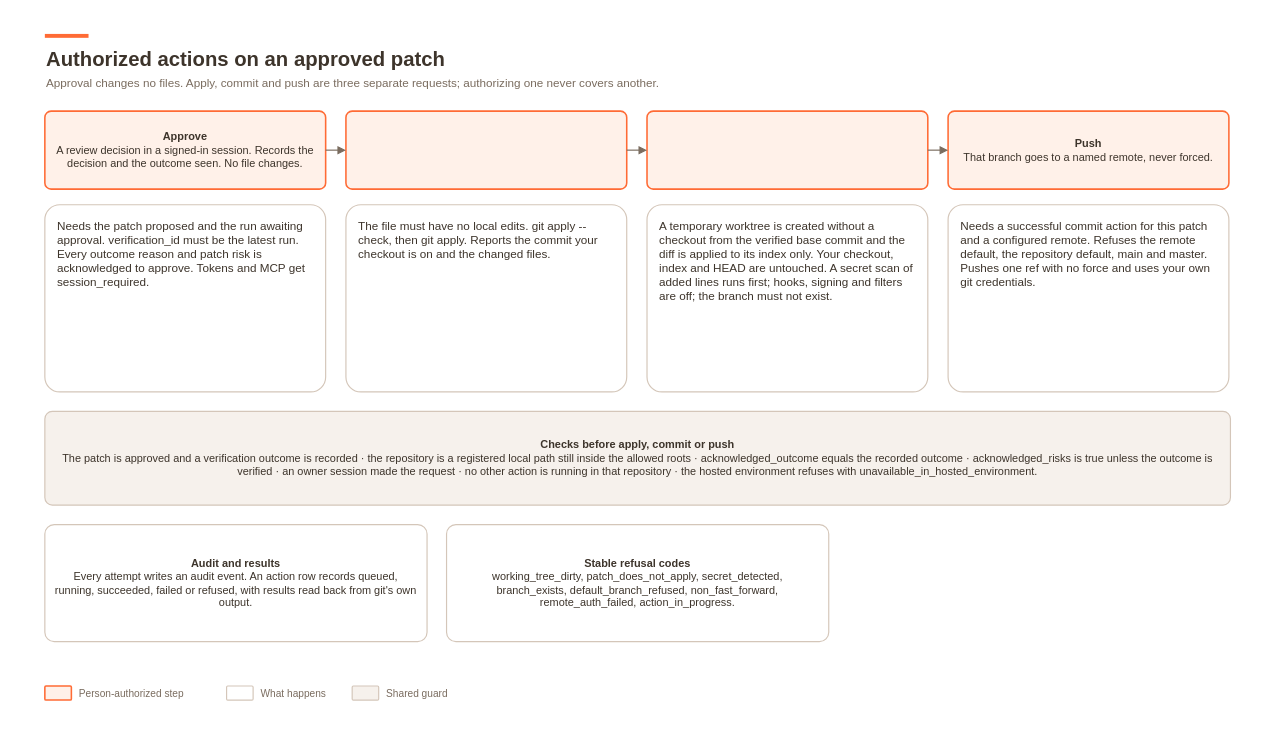
Some shapes in this 1275 by 729 pixel diagram are drawn without their labels. Here are the shapes that lost their labels. From the top down, the centre of each, then its label:
[486,150]: Apply The diff goes into the local working tree.
[787,150]: Commit The diff becomes a commit on a new branch.
